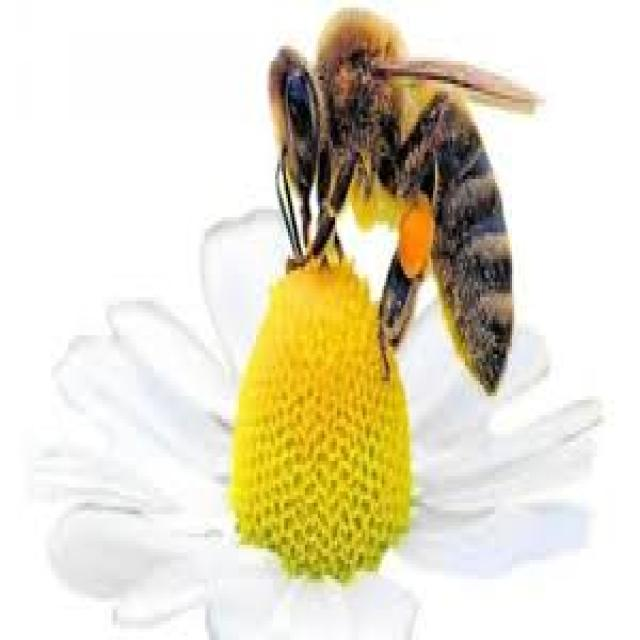Bees: (267, 7, 544, 402)
